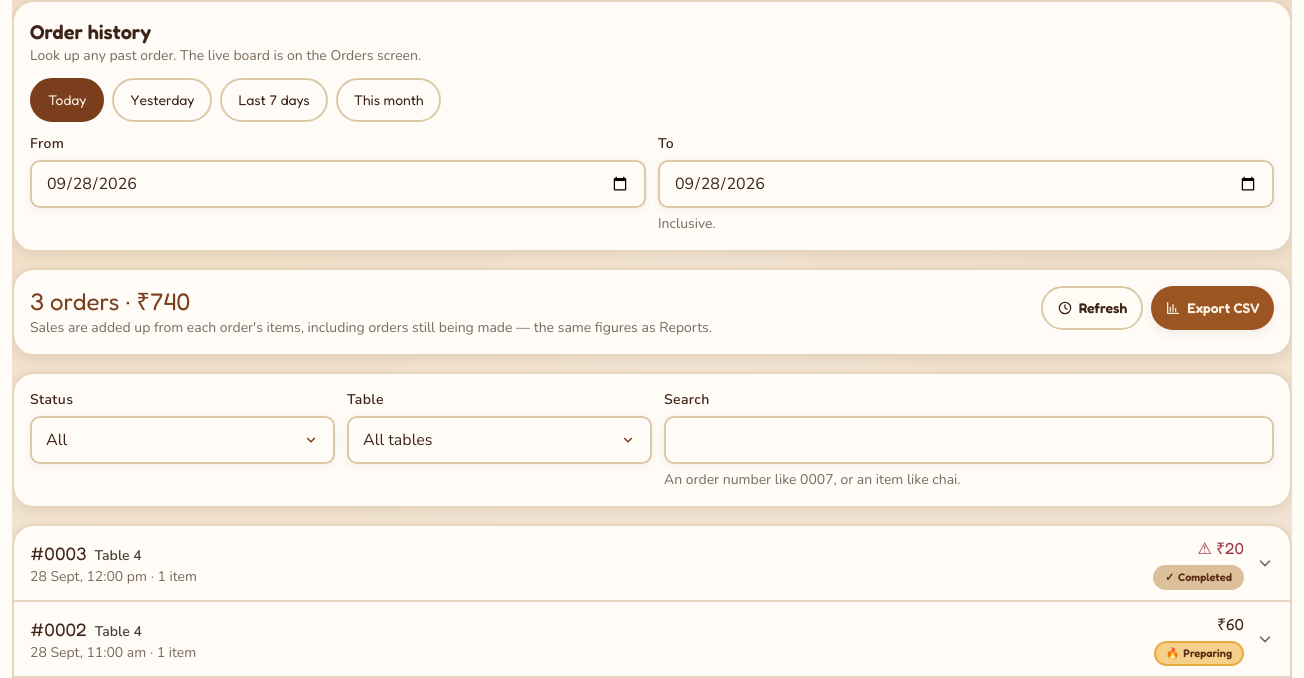
Test: order history: ranges › Last 7 days queries its own range
The width and height of the screenshot is (1304, 678).
Expected: the text "3 orders · ₹740" is shown, [30,287,190,316]
Click the button "Last 7 days": (274, 100) [220,78,328,122]
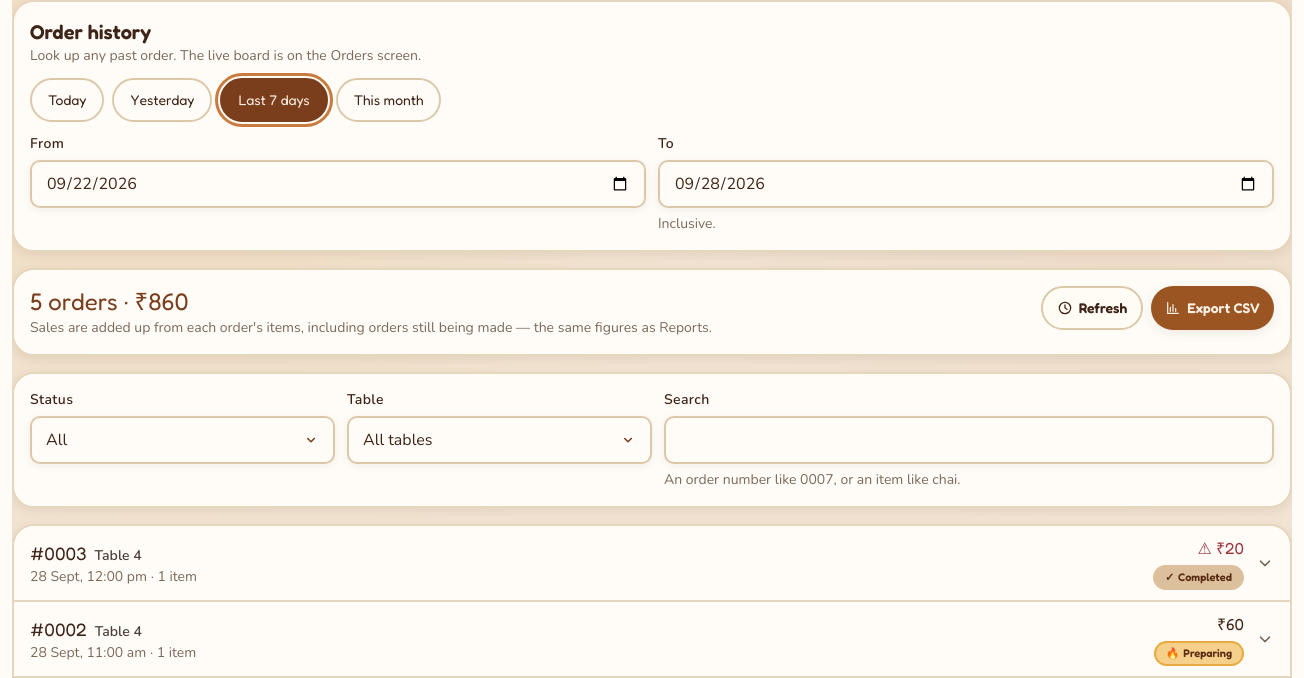
Now the text "5 orders · ₹860" is shown, box [30,287,189,316]
